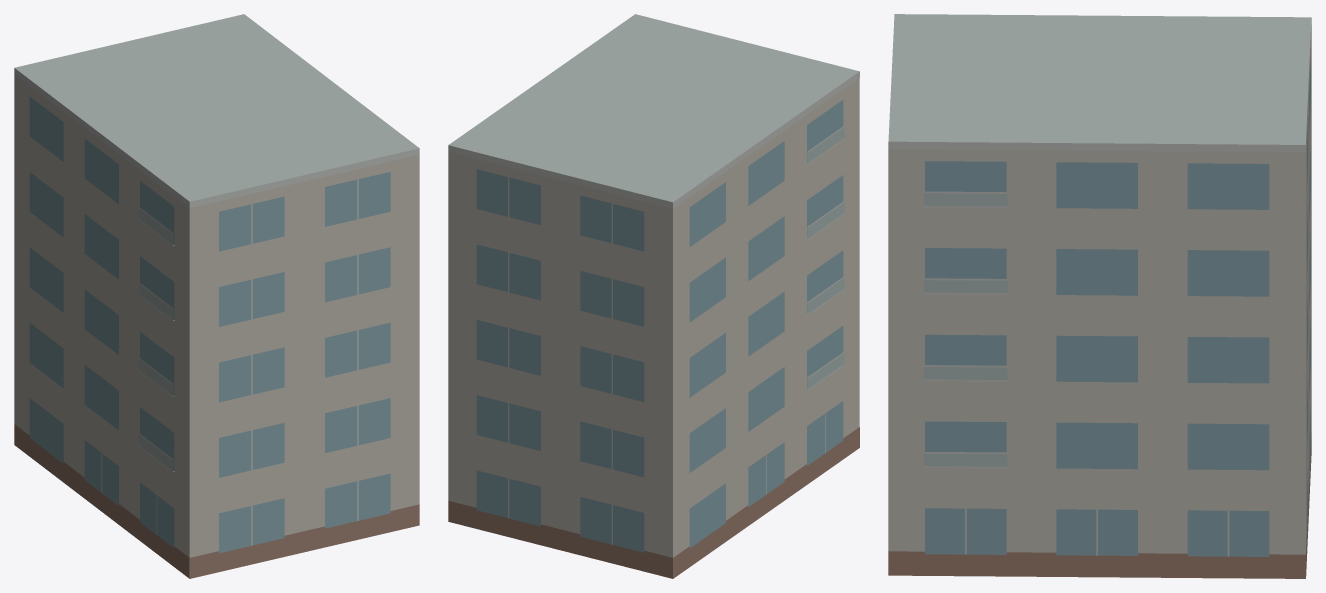
File: survey-upis-32832451.glb
3 views of the same model, side by side, from view 1: azimuth 30°, elevation 25°; view 2: azimuth 150°, elevation 25°; view 3: azimuth 270°, elevation 25° (orthographic). The views are drawn at different scales.
Visible parts, largest first — view 1: survey-upis-32832451.tmp; view 2: survey-upis-32832451.tmp; view 3: survey-upis-32832451.tmp.
Boxes of the visible parts, x1,y1,x2,y2 form: survey-upis-32832451.tmp: (14, 14, 419, 578); survey-upis-32832451.tmp: (448, 14, 859, 578); survey-upis-32832451.tmp: (888, 14, 1311, 578).
Size of the model in its own units: 9.28 by 14.3 by 12.65.
